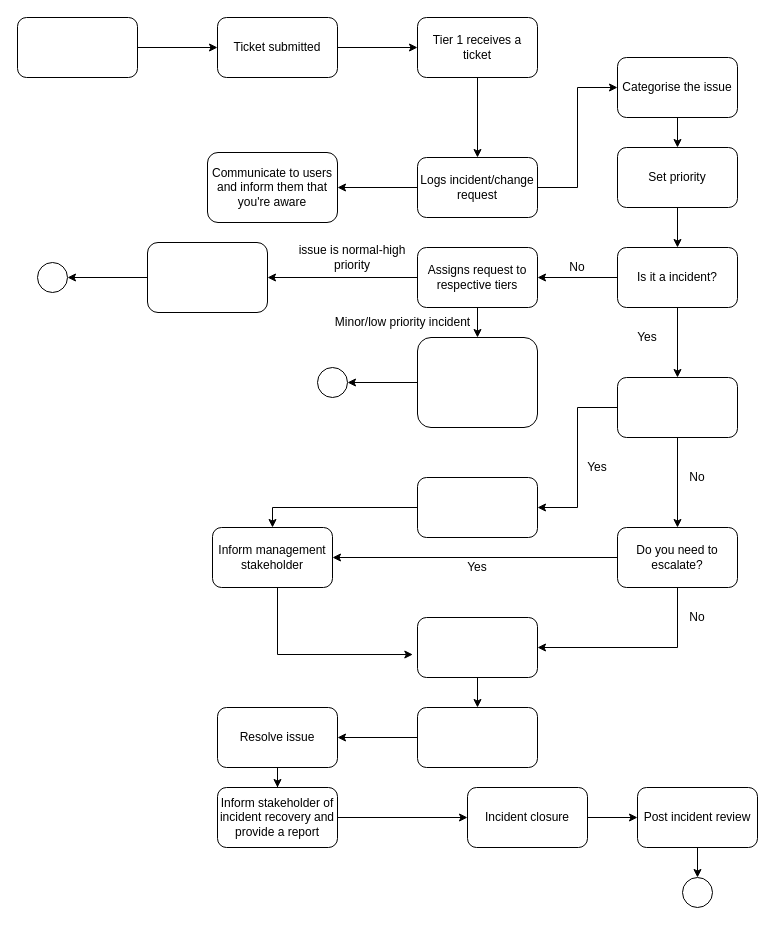
Image size: 775x925. Some labels were removed from this diagram. Here are the shapes that lost their labels. From the top down, the centre of each, then its label:
the point at 77,47: Event/incident happens
the point at 207,277: Upon resolving, forward to Support Manager for confirmation and approval
the point at 477,382: Upon resolving, inform the business stakeholder/users that issue is resolved
the point at 677,407: Is it a major incident?
the point at 477,507: Disaster recovery
the point at 477,647: Assign incident to respective tiers
the point at 477,737: Investigate and diagnosis
